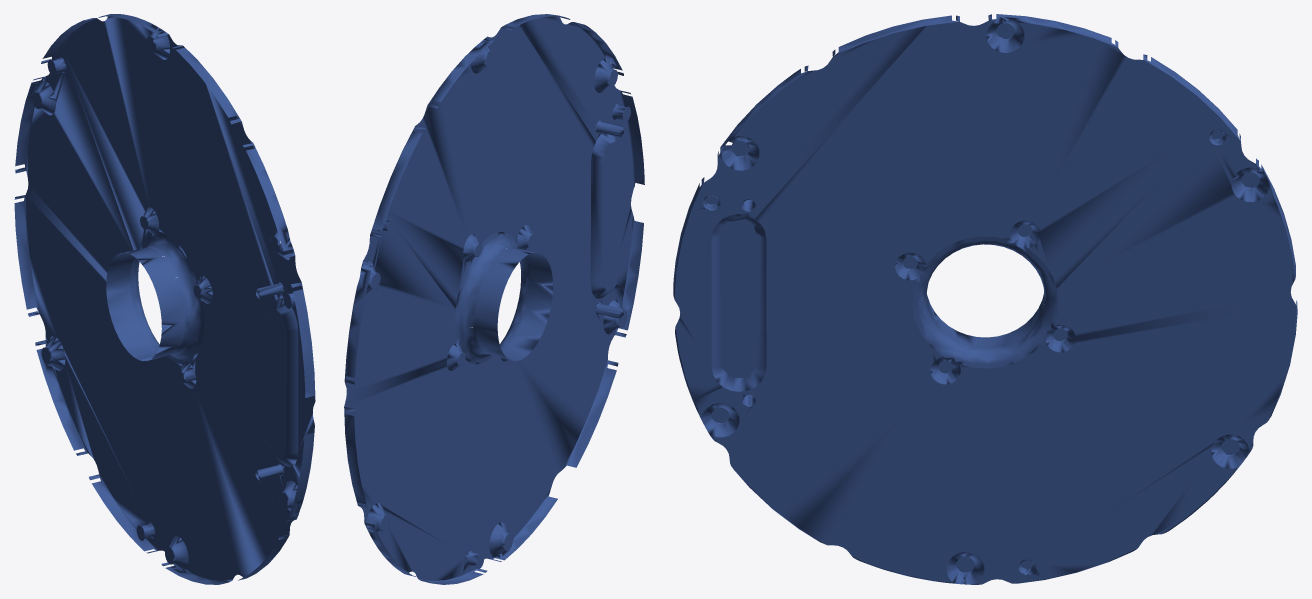
File: anymal_thigh_r_0.obj
3 views of the same model, side by side, from view 1: azimuth 30°, elevation 25°; view 2: azimuth 150°, elevation 25°; view 3: azimuth 270°, elevation 25° (orthographic). The views are drawn at different scales.
Parts seen in each view (by area): view 1: anymal_thigh_r_0; view 2: anymal_thigh_r_0; view 3: anymal_thigh_r_0.
Part boxes in pixels (box(x1,y1,x2,y2)): anymal_thigh_r_0: box(14, 14, 315, 584); anymal_thigh_r_0: box(344, 14, 644, 584); anymal_thigh_r_0: box(673, 14, 1297, 584).
Size of the model in its own units: 0.00654 by 0.0899 by 0.0899.
